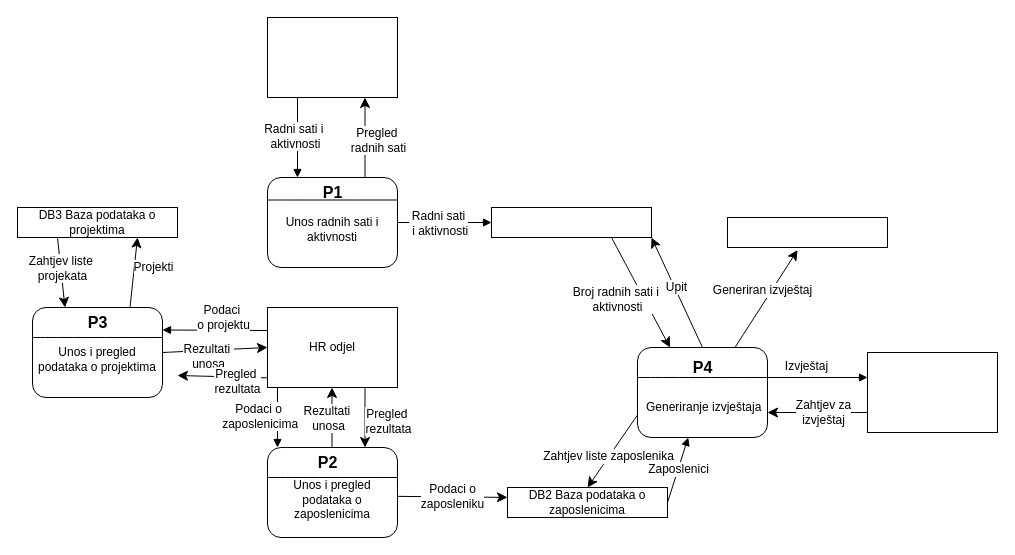
Some shapes in this 1015 by 555 pixel diagram are drawn without their labels. The centre of each missing label's shape, as x and y in pixels:
DB1 Baza radnih sati i aktivnosti: (571,222)
DB4 Baza podataka izvještaja: (807,232)
Menadžer: (932,392)
Zaposlenik: (332,57)
